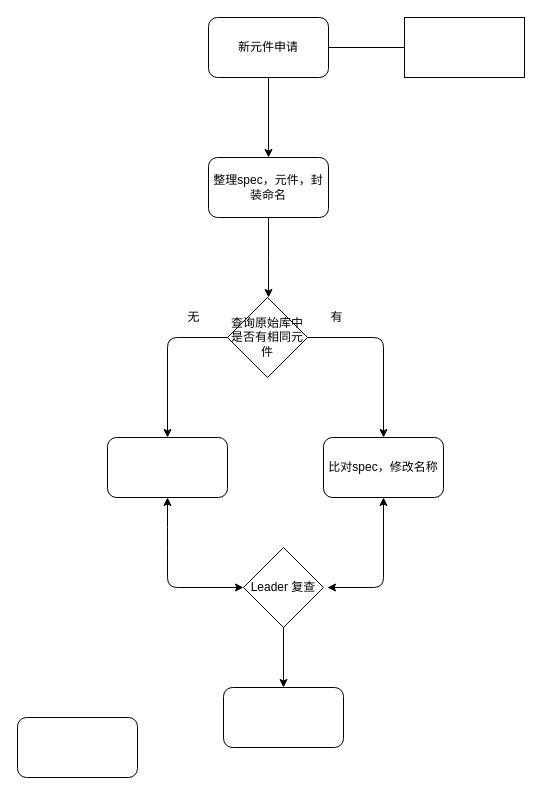
The diagram is 542 pixels wide and 795 high, and some of its shapes have lost their labels. Here are the shapes that lost their labels. From the top down, the centre of each, then its label:
At (x=464, y=47): "元件spec".
At (x=283, y=717): "添加到数据库，更新元件库".
